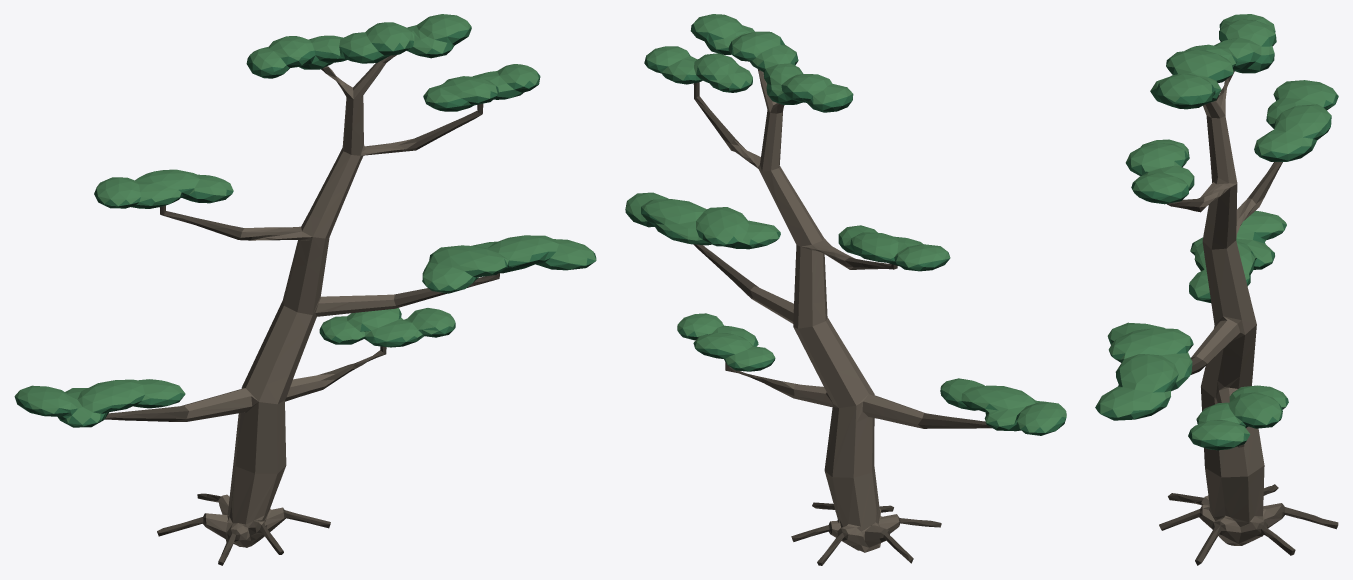
The model's file is ancient-pine-811-lod0.glb.
The picture shows the model from 3 angles, left to right: view 1: azimuth 30°, elevation 25°; view 2: azimuth 150°, elevation 25°; view 3: azimuth 270°, elevation 25°; orthographic projection. The views are drawn at different scales.
Parts seen in each view (by area): view 1: n8.004, n12.004, n11.004, n9.004, n10.004; view 2: n8.004, n12.004, n11.004, n9.004, n10.004; view 3: n12.004, n8.004, n11.004, n9.004, n10.004.
Part boxes in pixels (box(x1,y1,x2,y2)): n8.004: box(171, 57, 416, 547); n12.004: box(14, 14, 596, 424); n11.004: box(15, 26, 596, 426); n9.004: box(104, 54, 499, 565); n10.004: box(18, 36, 595, 427); n8.004: box(724, 70, 925, 552); n12.004: box(625, 14, 1066, 432); n11.004: box(625, 21, 1066, 432); n9.004: box(693, 69, 992, 565); n10.004: box(626, 38, 1064, 435); n12.004: box(1095, 14, 1338, 441); n8.004: box(1189, 78, 1282, 545); n11.004: box(1095, 21, 1338, 447); n9.004: box(1159, 71, 1338, 565); n10.004: box(1101, 39, 1336, 450).
Bounding box in the file's own units: 5.84 × 5.43 × 2.13.
